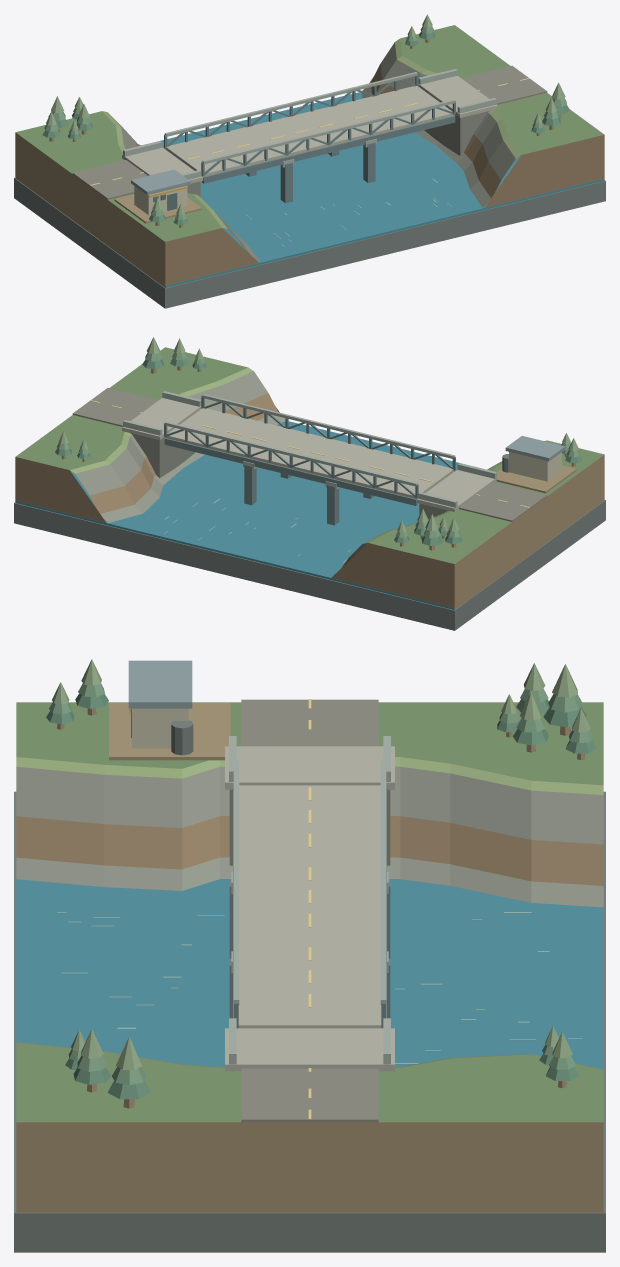
File: bridge-study.gltf
3 renders of one model, top to bottom at view 1: azimuth 30°, elevation 25°; view 2: azimuth 150°, elevation 25°; view 3: azimuth 270°, elevation 25°, orthographic. The views are drawn at different scales.
Parts seen in each view (by area): view 1: site.river.water, site.block.base.slate, site.combined.grass, site.combined.cut, site.combined.dirt, site.deck.outer.deck, site.combined.rock, site.approach.road, intact.deck.middle.deck, site.combined.edging, site.abutment.deck, site.combined.steel (+12 smaller); view 2: site.river.water, site.block.base.slate, site.combined.grass, site.combined.cut, site.combined.dirt, site.deck.outer.deck, site.combined.rock, site.approach.road, site.abutment.deck, site.combined.edging, intact.deck.middle.deck, site.combined.steel (+12 smaller); view 3: site.river.water, site.combined.dirt, site.combined.grass, site.combined.rock, site.block.base.slate, site.deck.outer.deck, site.combined.cut, site.approach.road, site.abutment.deck, intact.deck.middle.deck, site.combined.meadow, site.combined.pine1 (+7 smaller).
Part boxes in pixels (x1,y1,x2,y2): site.river.water: [141, 92, 604, 287]; site.block.base.slate: [14, 178, 605, 308]; site.combined.grass: [15, 25, 604, 241]; site.combined.cut: [136, 64, 604, 285]; site.combined.dirt: [15, 132, 202, 287]; site.deck.outer.deck: [165, 86, 454, 176]; site.combined.rock: [111, 42, 515, 261]; site.approach.road: [72, 65, 547, 199]; intact.deck.middle.deck: [250, 106, 370, 156]; site.combined.edging: [123, 69, 496, 179]; site.abutment.deck: [122, 75, 497, 183]; site.combined.steel: [164, 74, 455, 175]; site.river.water: [15, 421, 480, 609]; site.block.base.slate: [14, 500, 605, 630]; site.combined.grass: [15, 347, 604, 563]; site.combined.cut: [15, 393, 454, 607]; site.combined.dirt: [454, 454, 604, 609]; site.deck.outer.deck: [165, 408, 454, 498]; site.combined.rock: [75, 371, 367, 557]; site.approach.road: [72, 388, 547, 521]; site.abutment.deck: [122, 398, 497, 511]; site.combined.edging: [123, 391, 496, 507]; intact.deck.middle.deck: [249, 428, 369, 478]; site.combined.steel: [164, 396, 455, 498]; site.river.water: [16, 879, 603, 1069]; site.combined.dirt: [16, 703, 603, 1212]; site.combined.grass: [16, 702, 603, 1122]; site.combined.rock: [16, 766, 603, 907]; site.block.base.slate: [14, 791, 605, 1252]; site.deck.outer.deck: [238, 785, 381, 1028]; site.combined.cut: [16, 816, 603, 885]; site.approach.road: [241, 699, 378, 1122]; site.abutment.deck: [225, 746, 394, 1071]; intact.deck.middle.deck: [239, 865, 380, 945]; site.combined.meadow: [16, 757, 603, 1070]; site.combined.pine1: [46, 693, 596, 1099].
Bounding box in the file's own units: 32 × 7.04 × 19.
